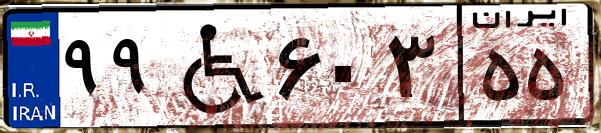0: (330, 28, 385, 110)
3: (385, 28, 445, 110)
5: (475, 38, 525, 113), (525, 38, 570, 115)
6: (270, 28, 330, 110)
9: (57, 26, 110, 100), (110, 28, 158, 98)
ژ (معلولین و جانبازان): (158, 12, 270, 120)
